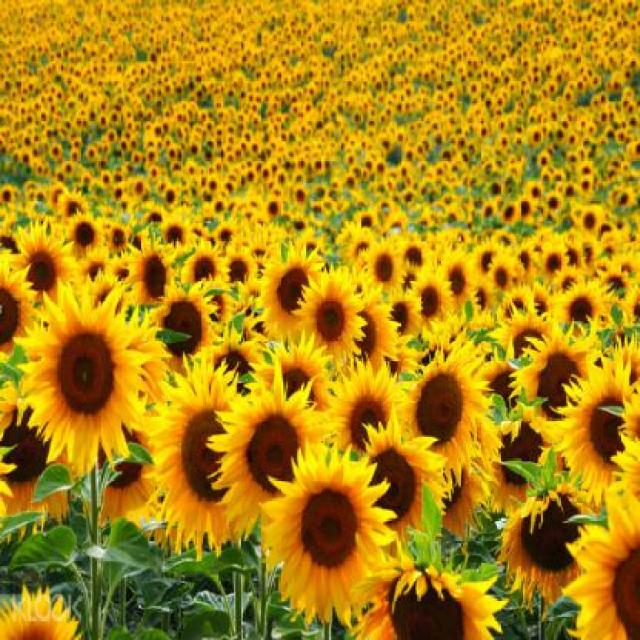sunflower: (11, 278, 149, 490), (261, 436, 393, 636), (395, 346, 487, 485), (295, 272, 374, 365)
